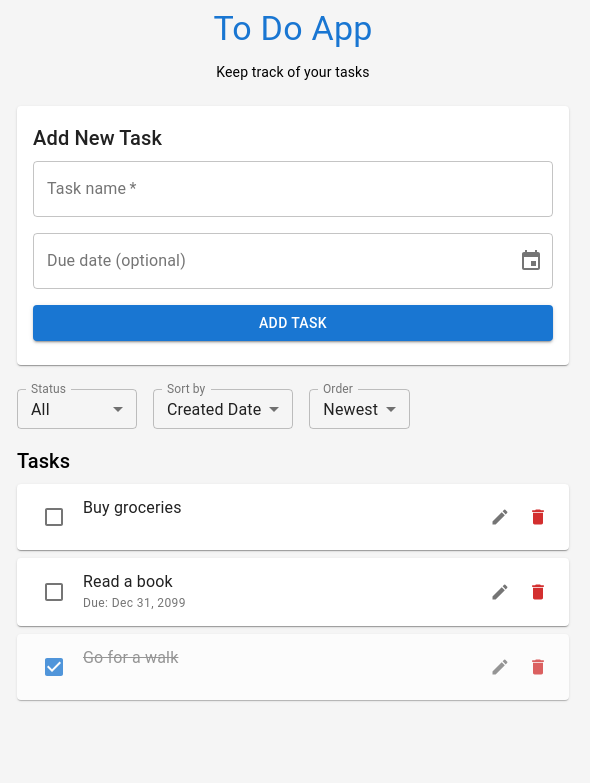
App Component › deletes a todo
Expected: the text "Buy groceries" is shown, [83,498,182,517]
Click the button named "delete \"buy groceries\"" at (538, 517), box [523,496,553,538]
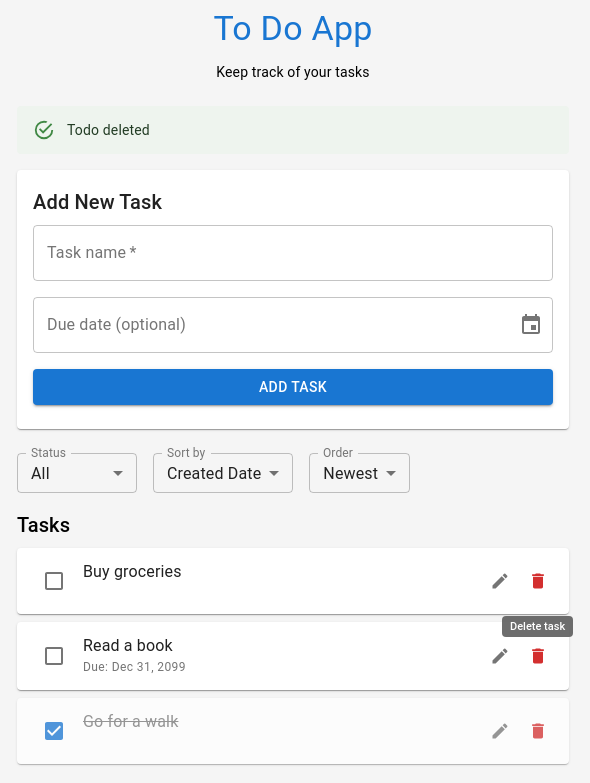
Now the message reads "Todo deleted", box [67,122,150,138]
